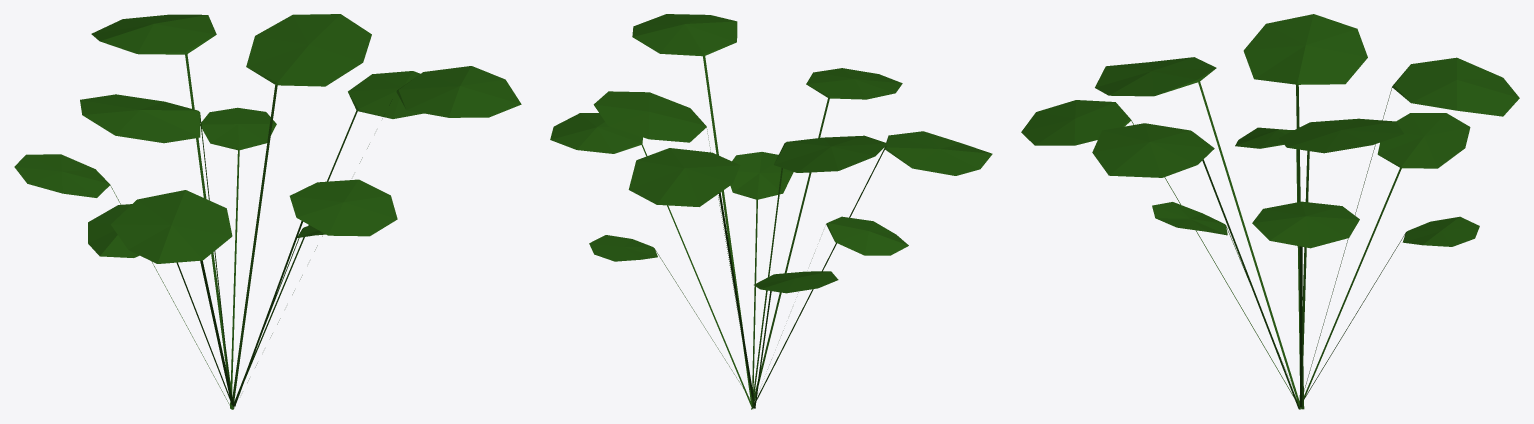
The model's file is Foliage 1.fbx.
3 renders of one model, left to right at view 1: azimuth 30°, elevation 25°; view 2: azimuth 150°, elevation 25°; view 3: azimuth 270°, elevation 25°, orthographic. The views are drawn at different scales.
Visible parts, largest first — view 1: Pflanze; view 2: Pflanze; view 3: Pflanze.
Part boxes in pixels (x1=…): Pflanze: x1=14, y1=14, x2=521, y2=409; Pflanze: x1=550, y1=14, x2=992, y2=409; Pflanze: x1=1021, y1=14, x2=1519, y2=409.
Size of the model in its own units: 65.08 by 53.02 by 70.16.
